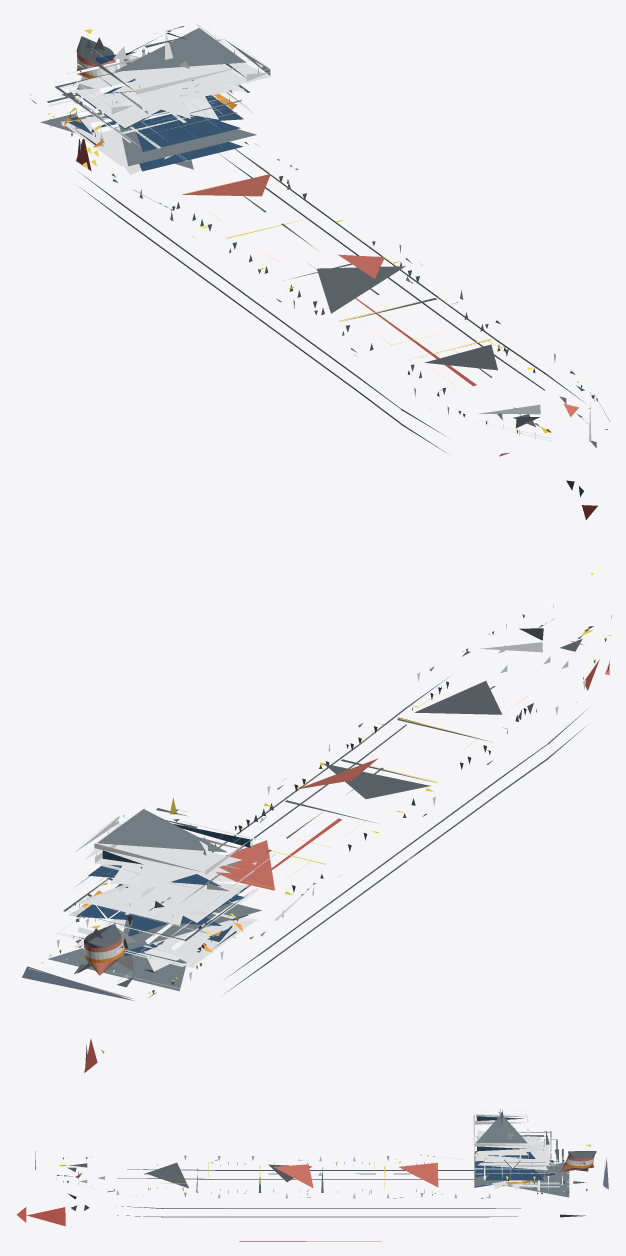
Rendered from ship_15.glb.
The picture shows the model from 3 angles, top to bottom: view 1: azimuth 30°, elevation 25°; view 2: azimuth 150°, elevation 25°; view 3: azimuth 270°, elevation 25°; orthographic projection. The views are drawn at different scales.
Parts seen in each view (by area): view 1: TrueHelm_Ship_15; view 2: TrueHelm_Ship_15; view 3: TrueHelm_Ship_15.
Boxes of the visible parts, <box> form: TrueHelm_Ship_15: <box>29,24,609,519</box>; TrueHelm_Ship_15: <box>22,572,611,1072</box>; TrueHelm_Ship_15: <box>17,1108,608,1241</box>.
Bounding box in the file's own units: 0.1306 × 0.1701 × 0.7682.
